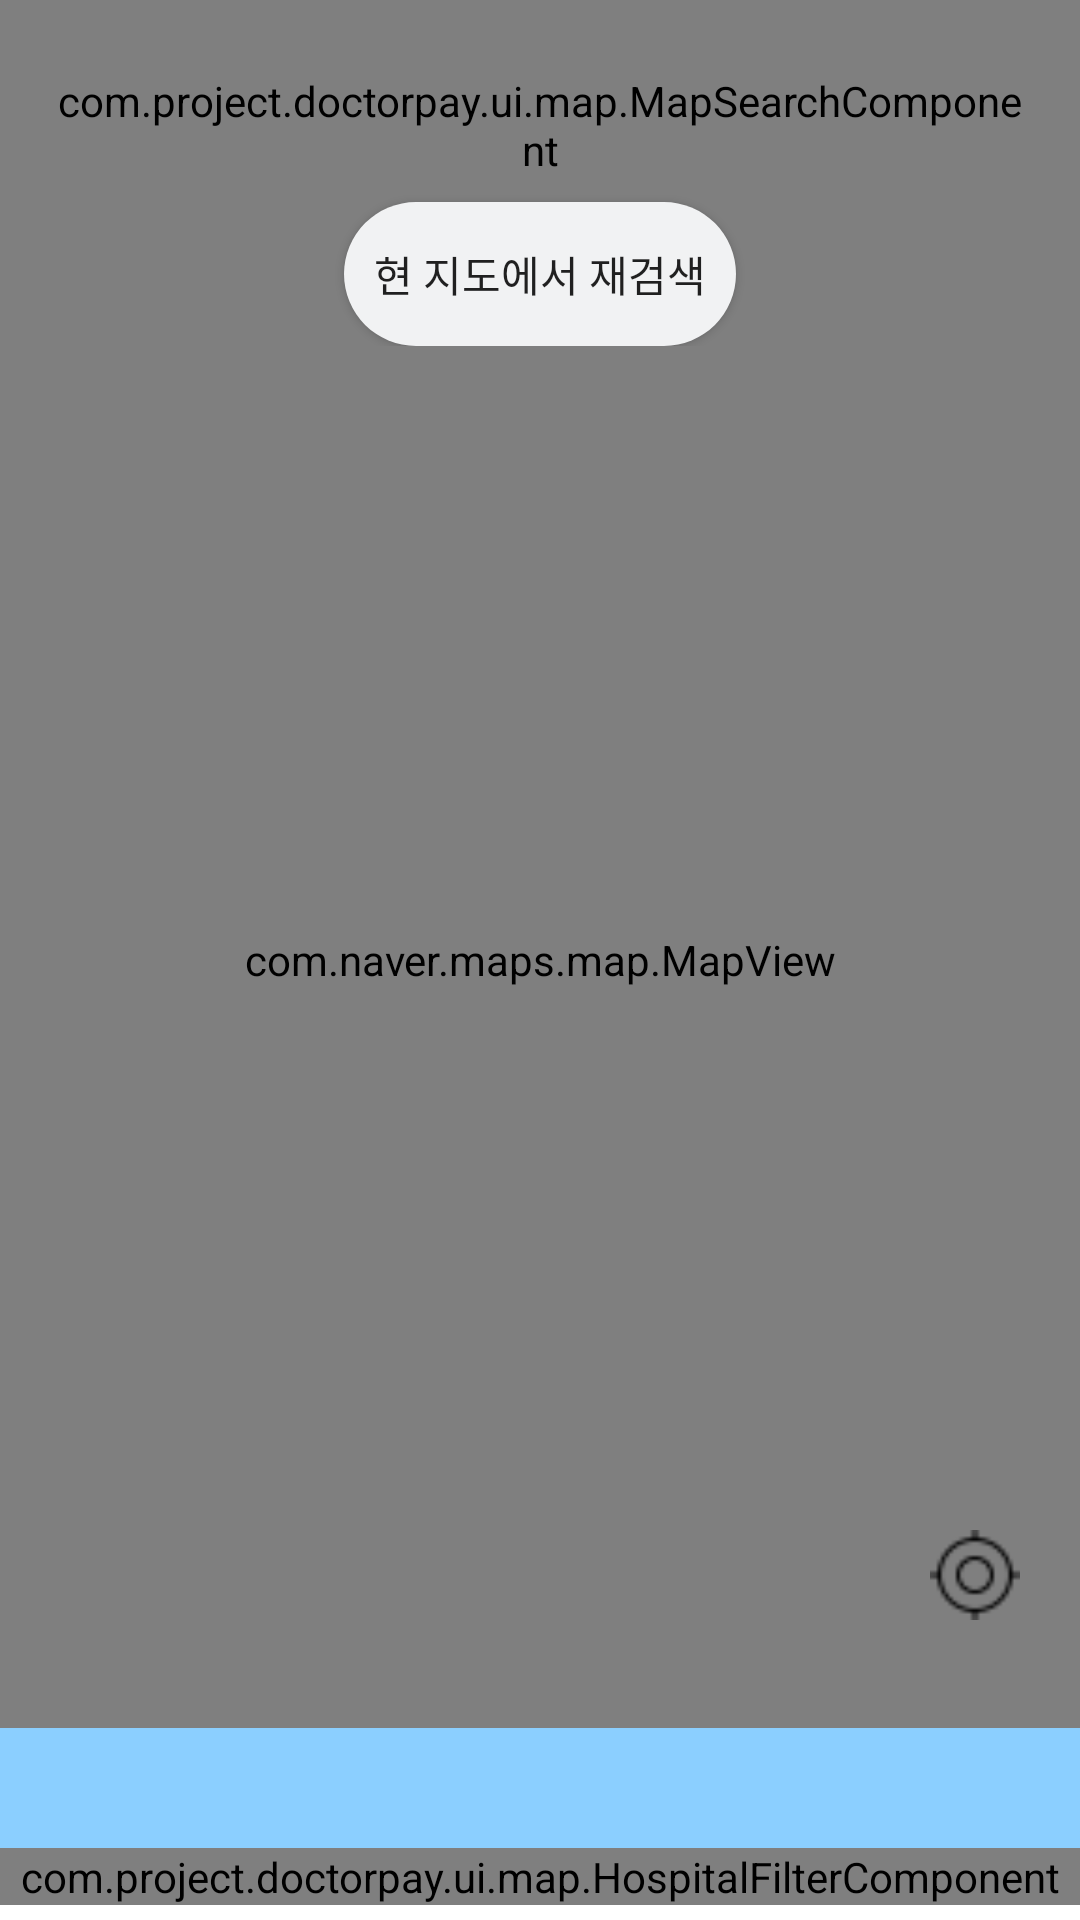

Icon bounding boxes for this 1080 x 1920 phone screenshot, format (x1, y1, x2, y2):
current location: (930, 1530, 1020, 1620)
